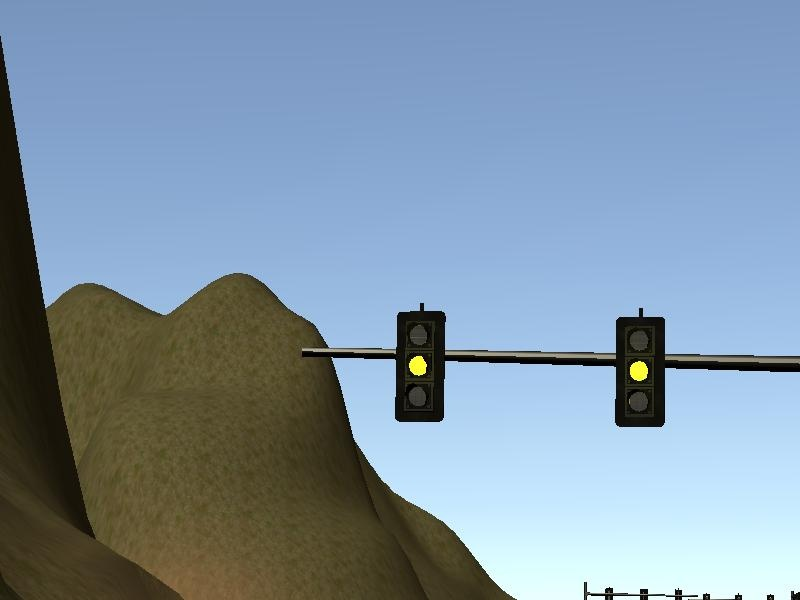YELLOW: (394, 310, 446, 423), (612, 317, 664, 430)
